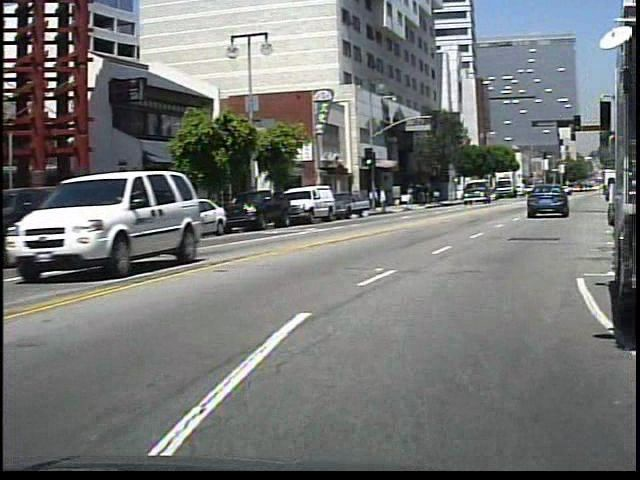person: (380, 186, 394, 215)
